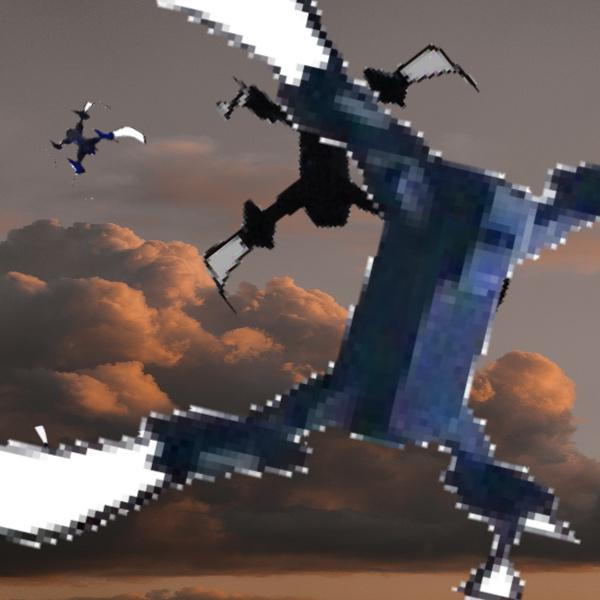drone: (177, 17, 546, 386), (42, 100, 144, 202), (8, 427, 77, 496)
